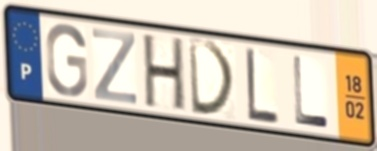D: (186, 35, 239, 119)
G: (43, 21, 89, 99)
H: (142, 32, 187, 115)
L: (290, 53, 332, 131), (244, 44, 281, 127)
Z: (90, 25, 139, 107)
